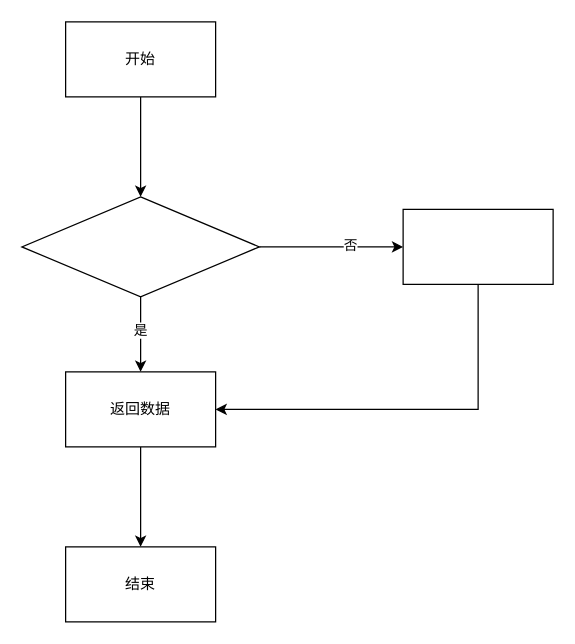
This 575x644 diagram has some shape labels left out. Each missing label, with the centre of its shape:
"回源（Redis、数据库）加载" goes at [477,246].
"本地缓存存在" goes at [140,246].
